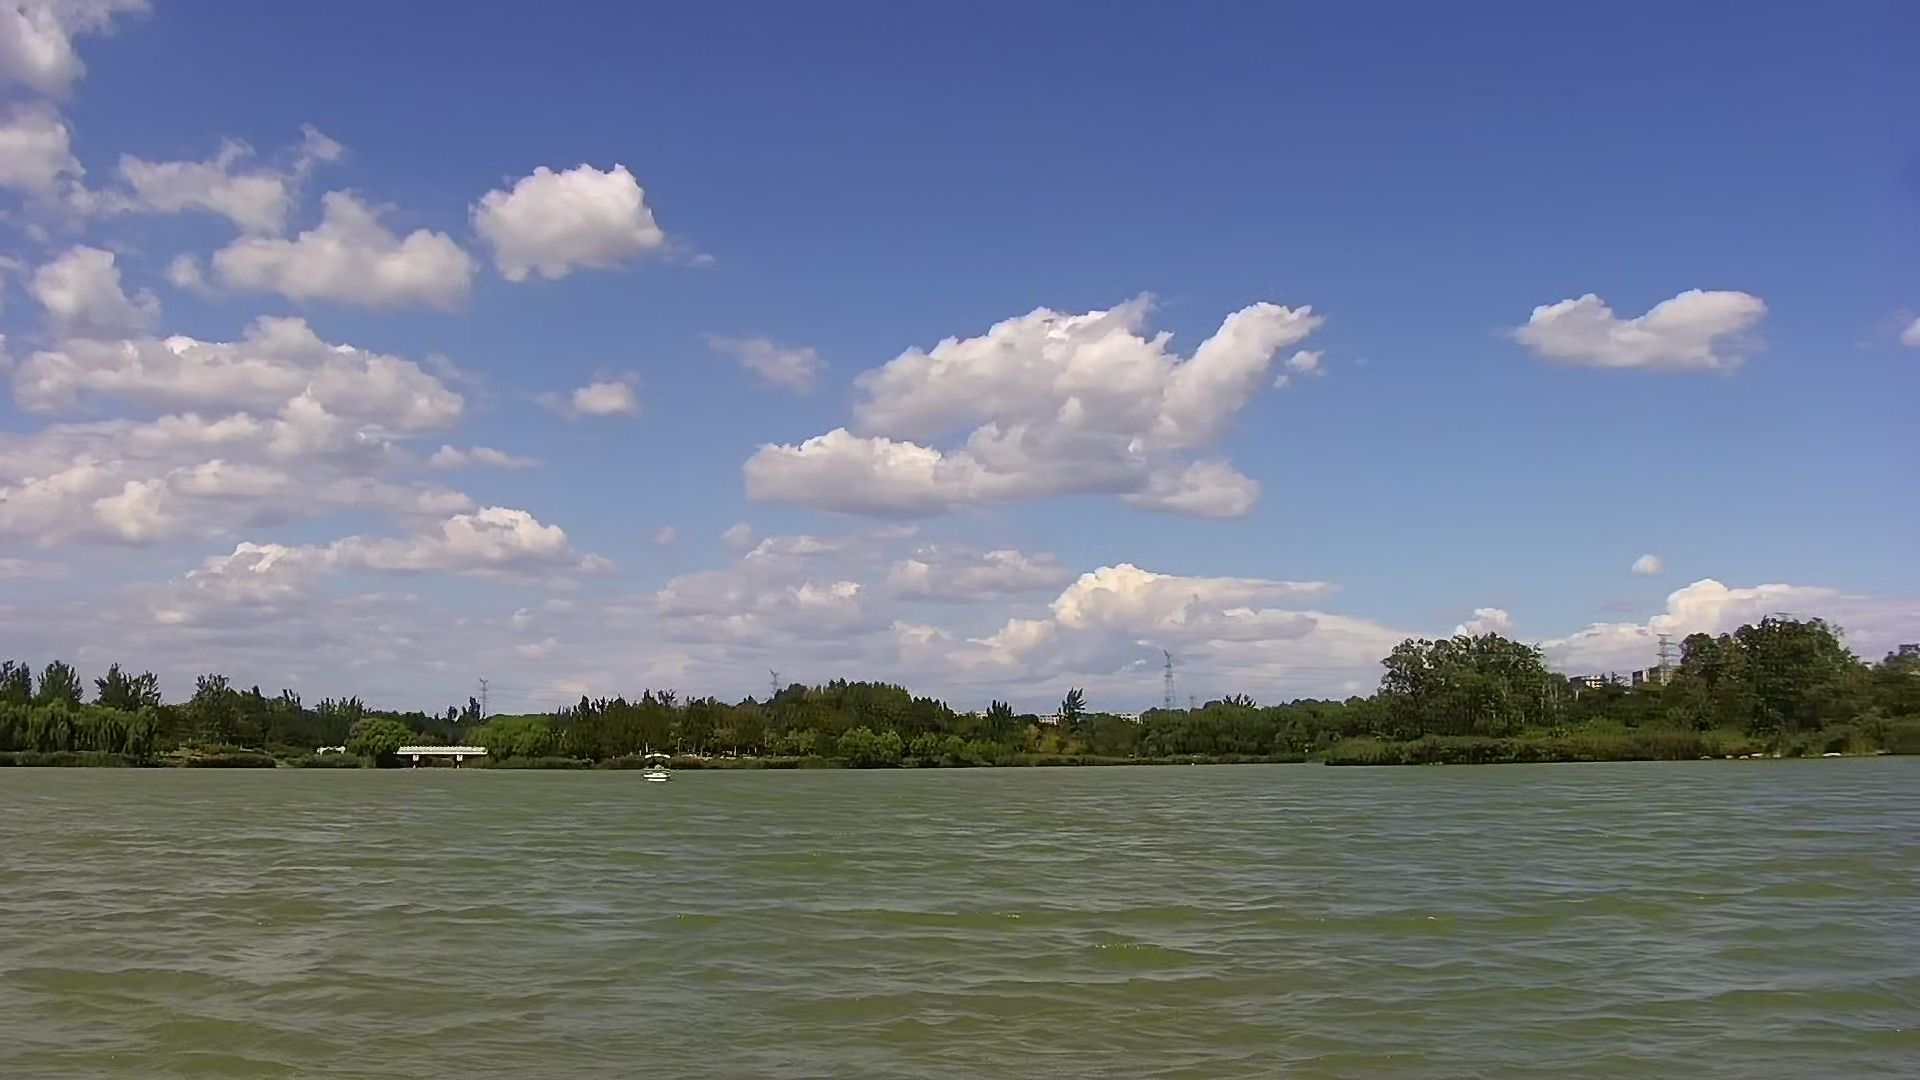boat: (632, 744, 680, 790)
bridge: (389, 735, 495, 766)
